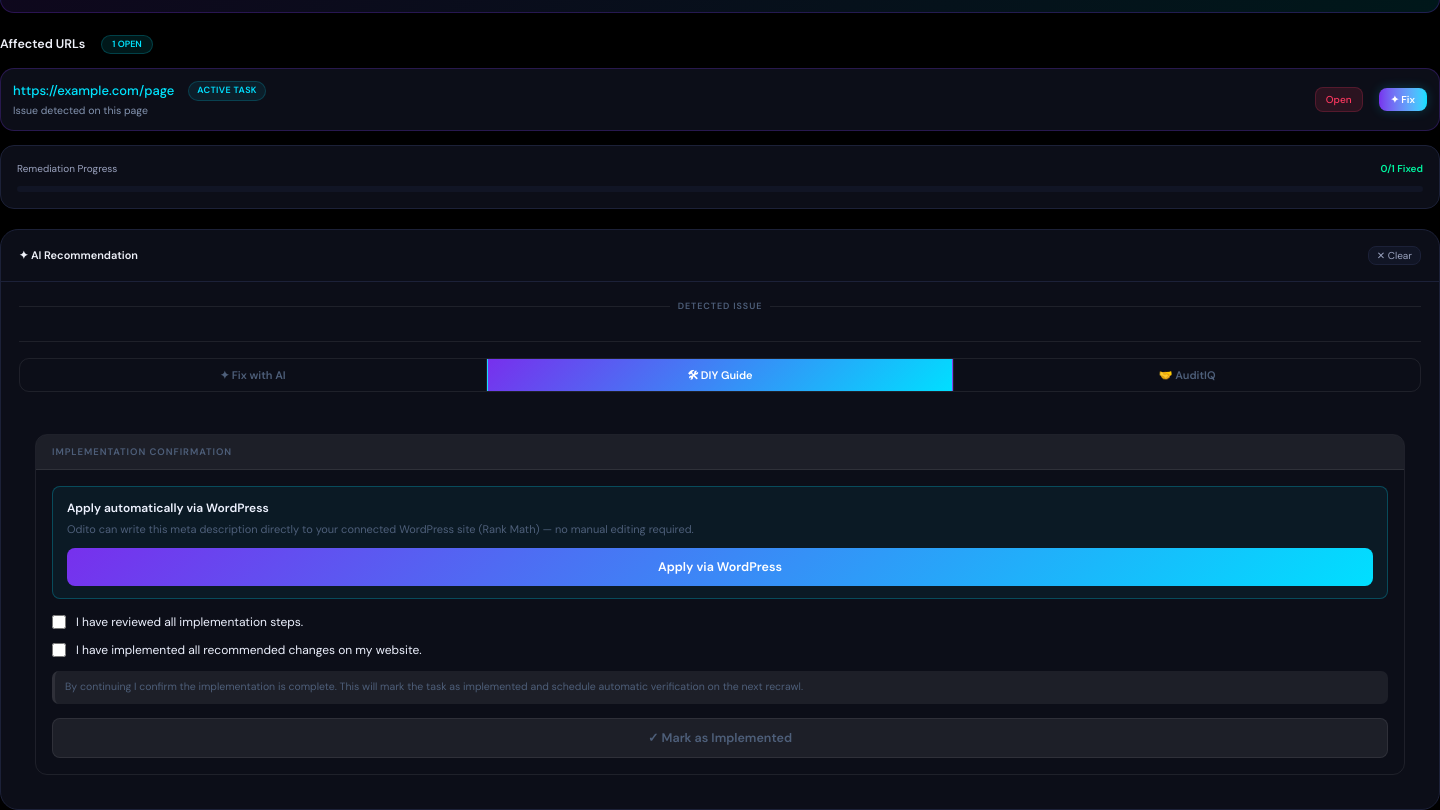
Scenario: IssueDetailView — Apply-fix dialog current-value display (naxonify.com "(empty)" bug fix) › while the live value is still loading, shows a loading state — never (empty) and never the previous page's value
The width and height of the screenshot is (1440, 810).
(page scrolled)
Click the button "Apply via WordPress" at (720, 567), box 67,548 -> 1373,586
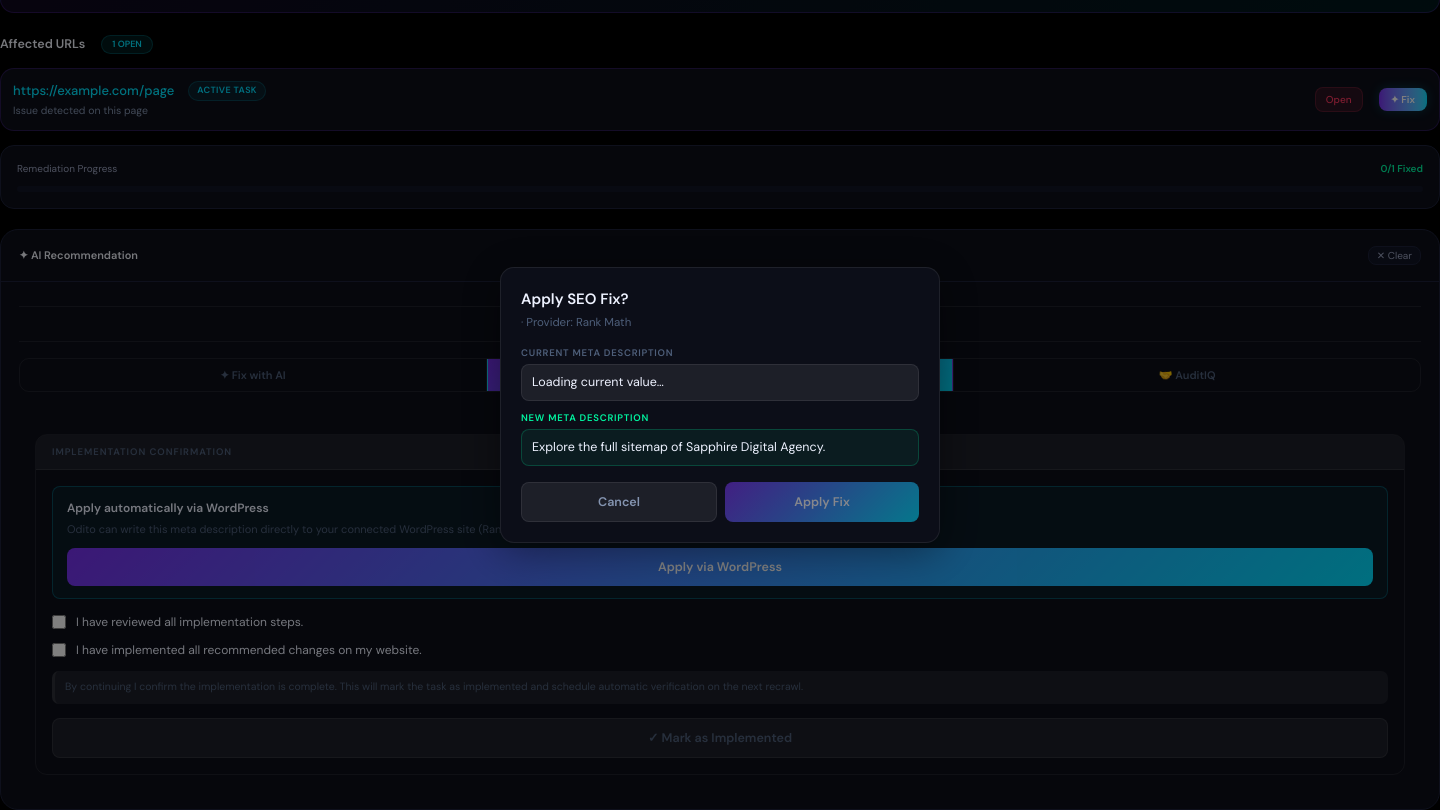
Expected: the text "Loading current value…" is shown, 521,364 -> 919,401
